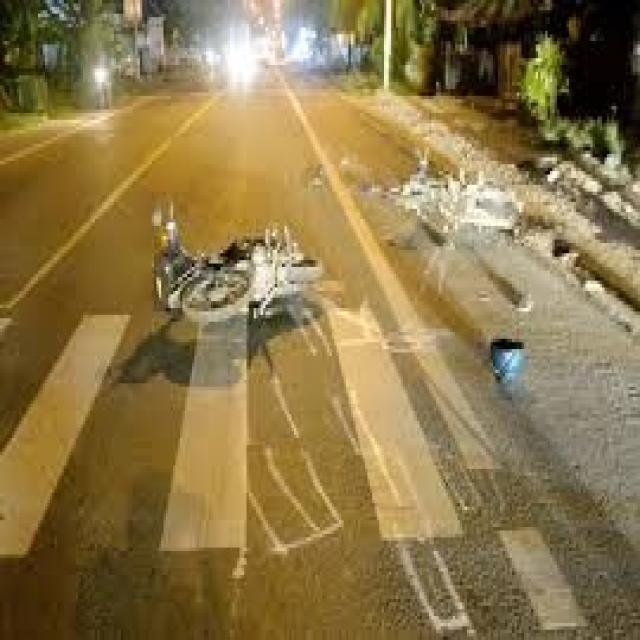accident: (125, 169, 347, 355), (386, 129, 531, 272)
